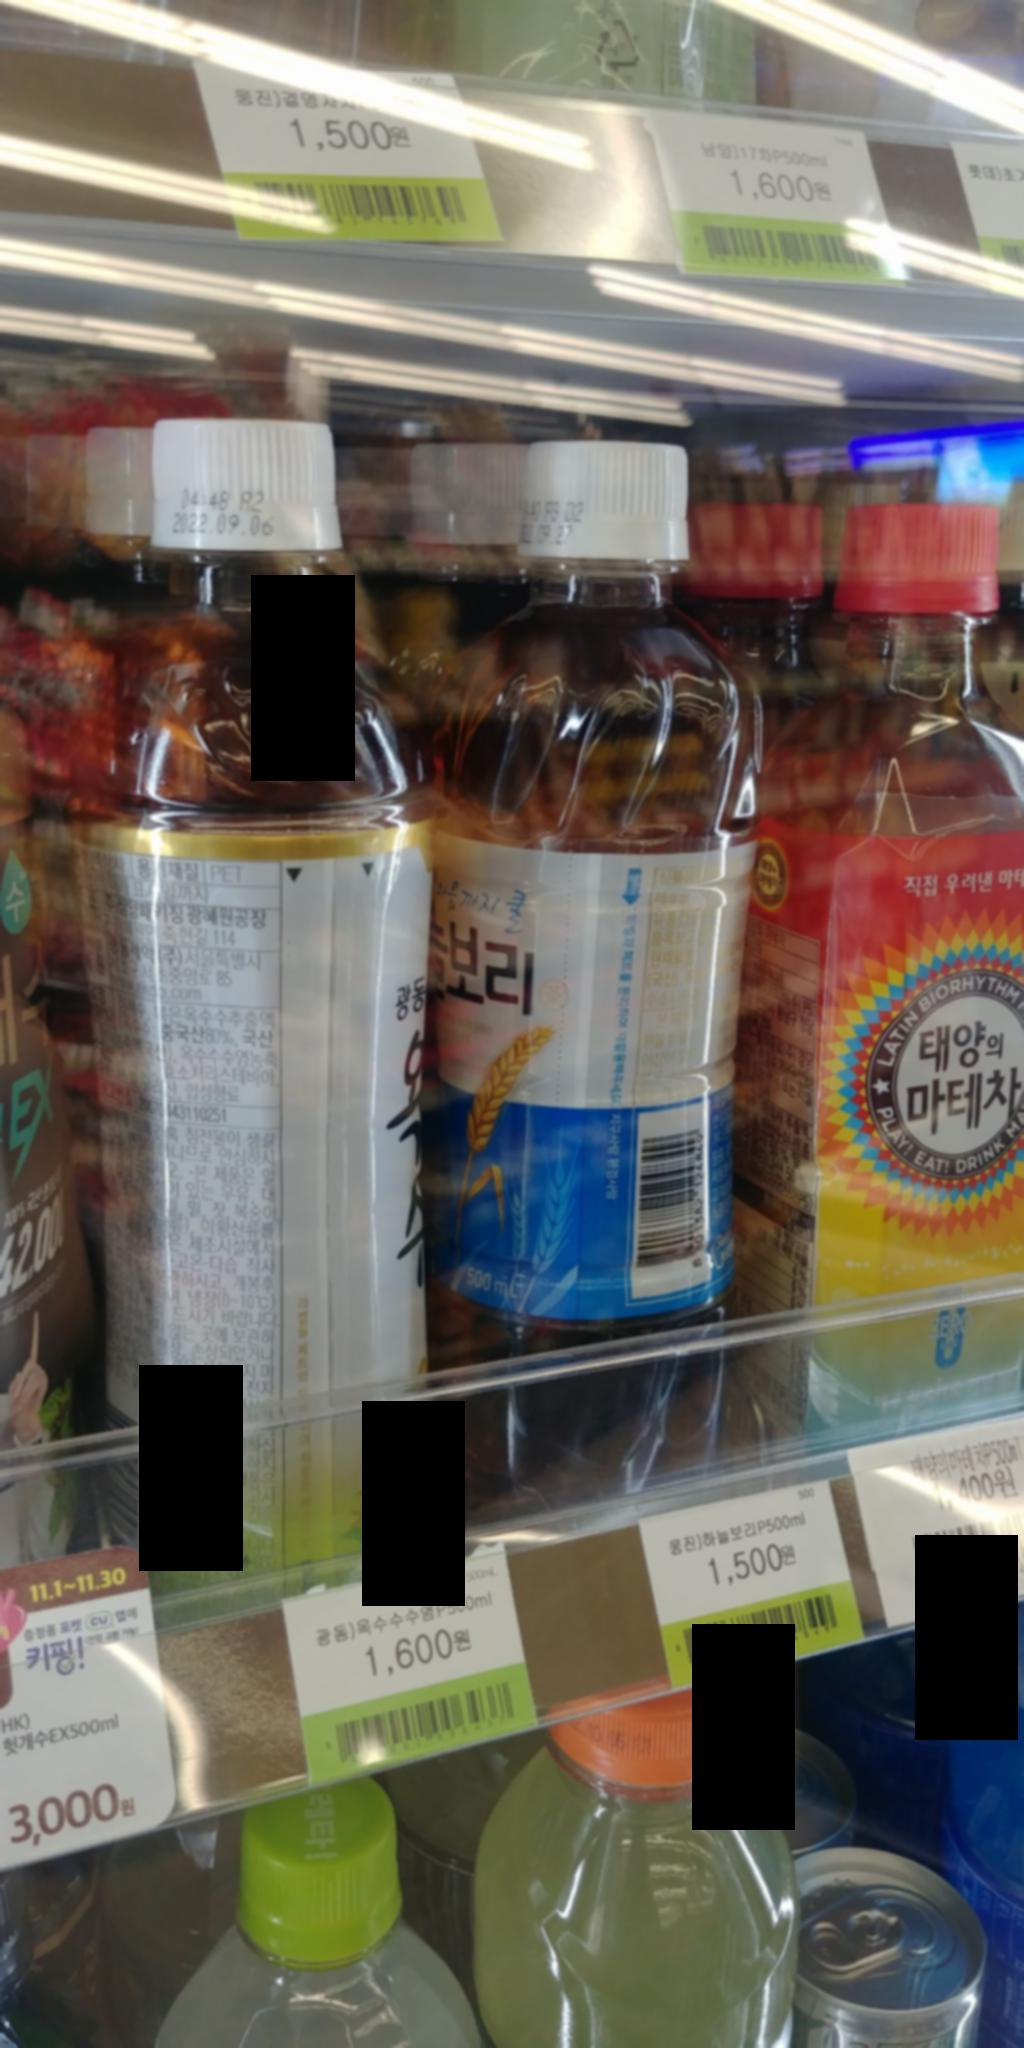haneulbori: (436, 409, 759, 1481)
oksususuyeomcha: (77, 401, 462, 1570)
